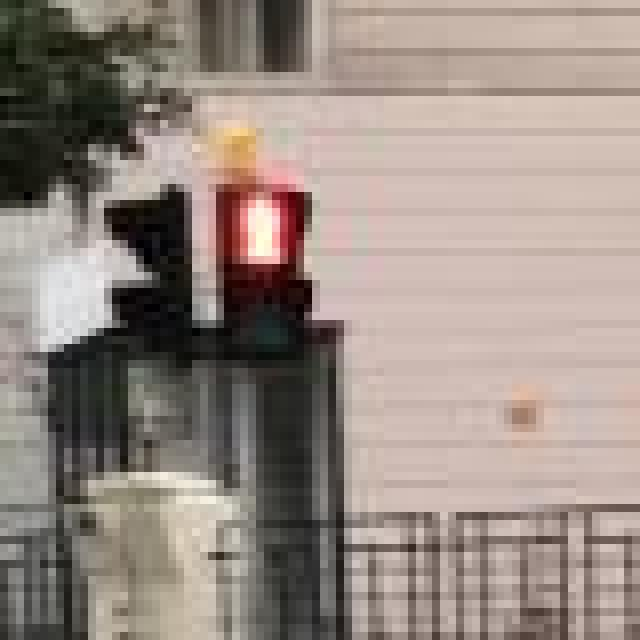redlight: (222, 184, 313, 362)
